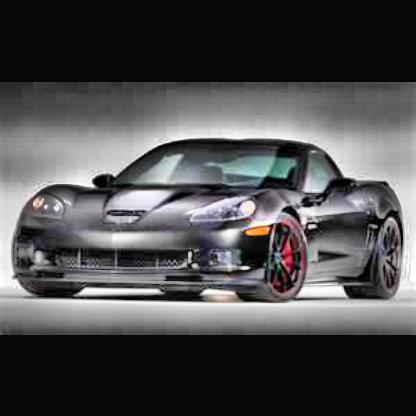Chevrolet Corvette ZR1 2012: (11, 136, 410, 303)
